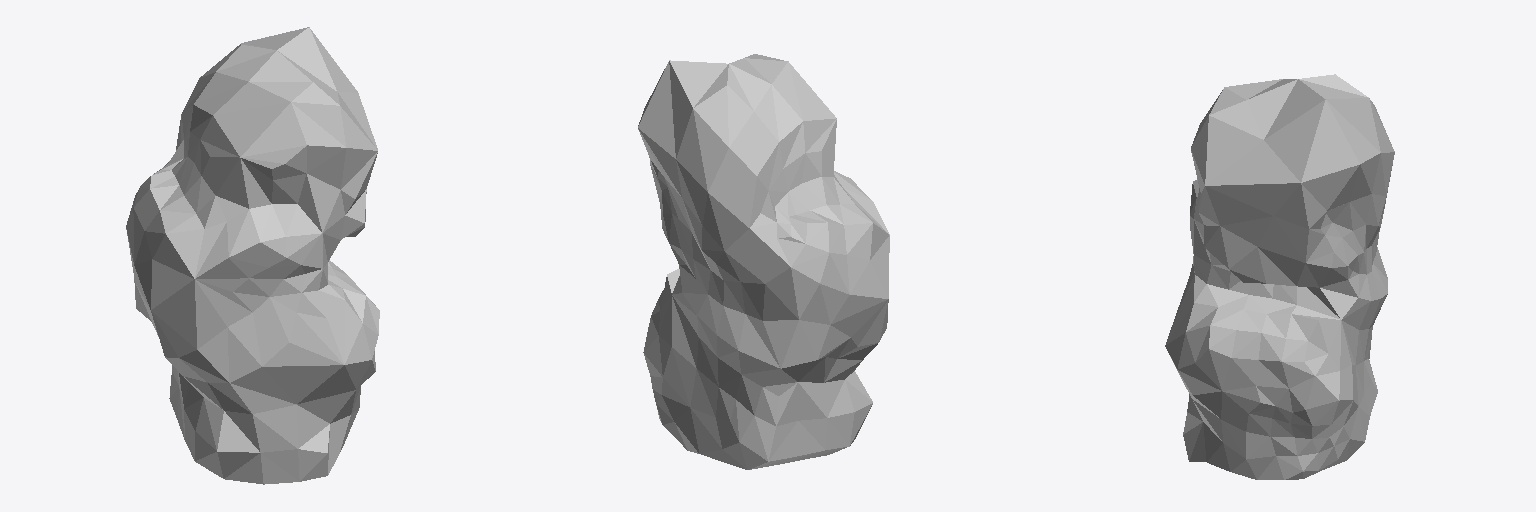
File: Piedra2.obj
The picture shows the model from 3 angles: view 1: azimuth 30°, elevation 25°; view 2: azimuth 150°, elevation 25°; view 3: azimuth 270°, elevation 25°; orthographic projection.
Visible parts, largest first — view 1: g_Box001.004_meshId0_name.009; view 2: g_Box001.004_meshId0_name.009; view 3: g_Box001.004_meshId0_name.009.
Boxes of the visible parts, x1,y1,x2,y2 form: g_Box001.004_meshId0_name.009: [126, 27, 379, 484]; g_Box001.004_meshId0_name.009: [638, 54, 889, 469]; g_Box001.004_meshId0_name.009: [1165, 74, 1394, 479].
Bounding box in the file's own units: 3.85 × 6.31 × 3.39.